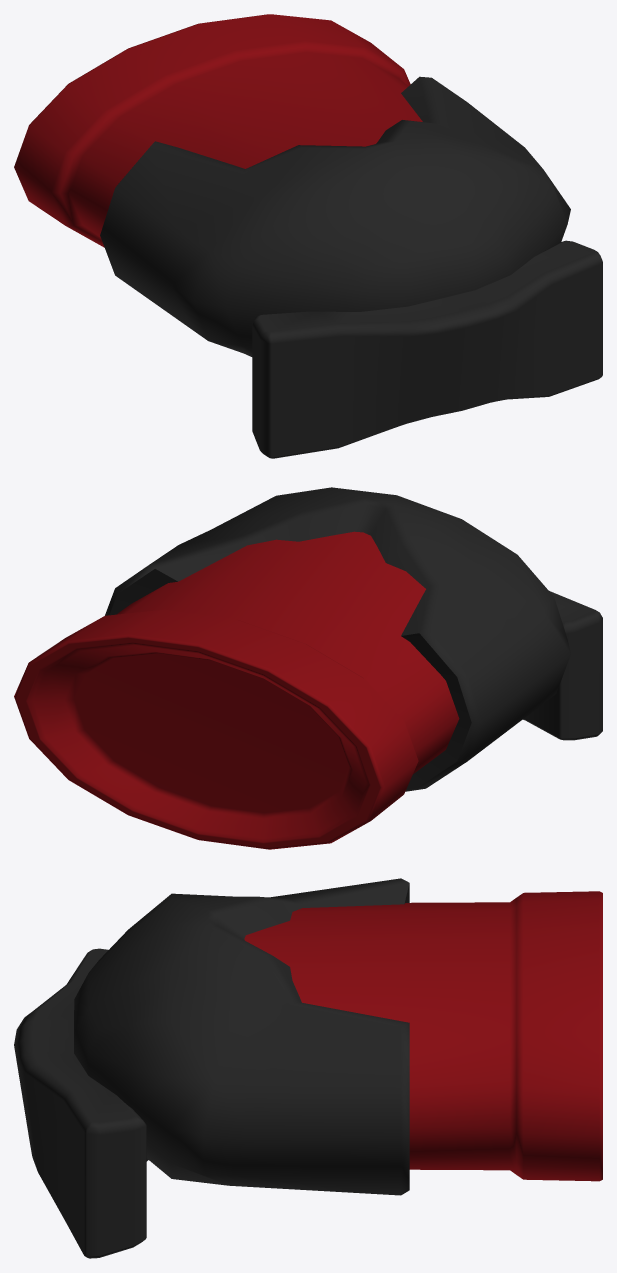
The model's file is Ship_Boos_01_Engine_01.fbx.
3 views of the same model, one above another, from view 1: azimuth 30°, elevation 25°; view 2: azimuth 150°, elevation 25°; view 3: azimuth 270°, elevation 25° (orthographic). The views are drawn at different scales.
Visible parts, largest first — view 1: Ship_Boos_01_Engine_01; view 2: Ship_Boos_01_Engine_01; view 3: Ship_Boos_01_Engine_01.
Part boxes in pixels (x1,y1,x2,y2): Ship_Boos_01_Engine_01: [14, 14, 602, 458]; Ship_Boos_01_Engine_01: [14, 487, 602, 849]; Ship_Boos_01_Engine_01: [14, 878, 602, 1258].
Bounding box in the file's own units: 431 × 251 × 529.
